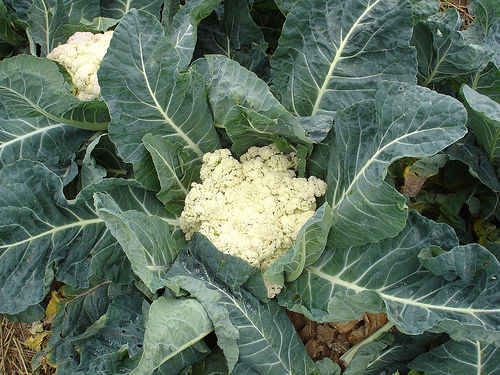cauliflower: (178, 145, 328, 297), (45, 30, 117, 100)
